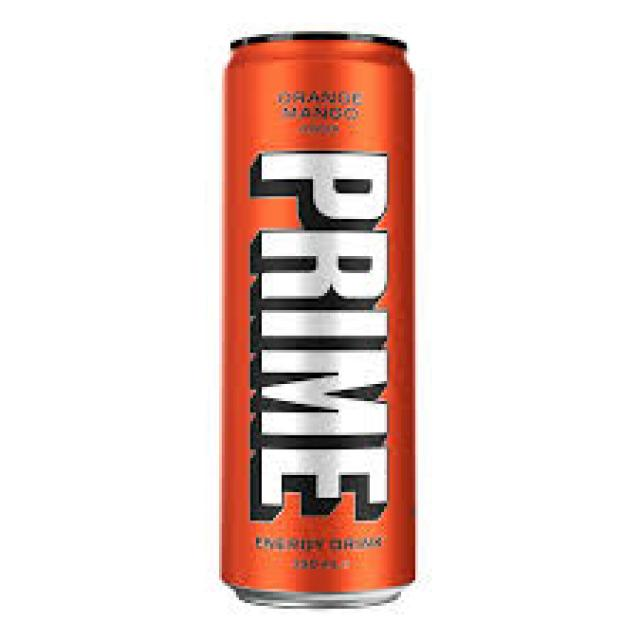Cans: (208, 20, 432, 614)
